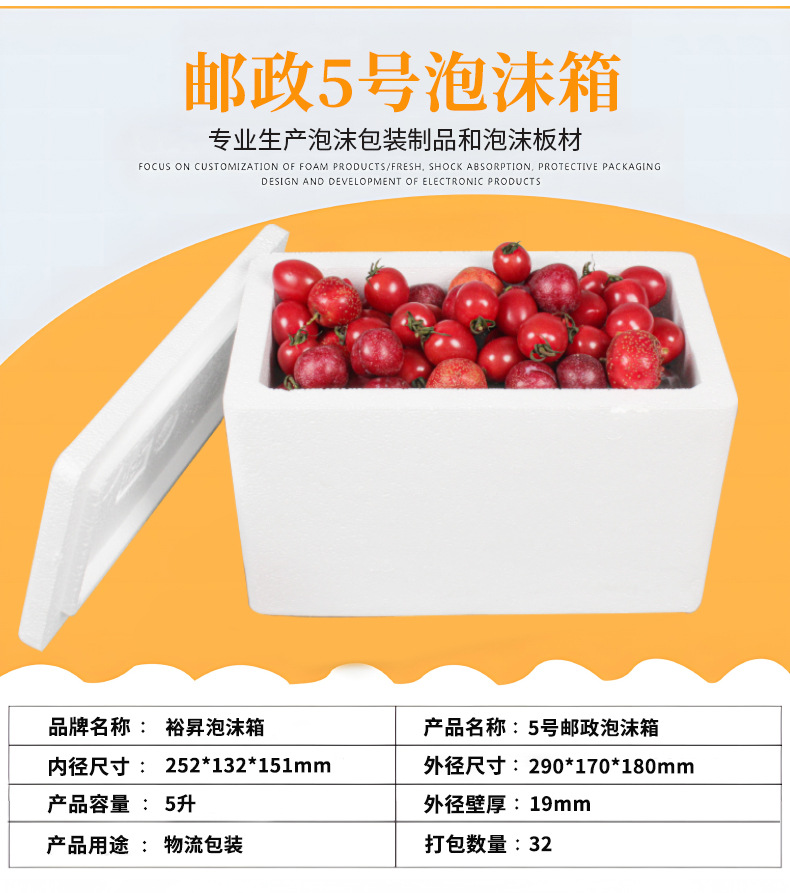泡沫箱: (19, 226, 737, 650)
